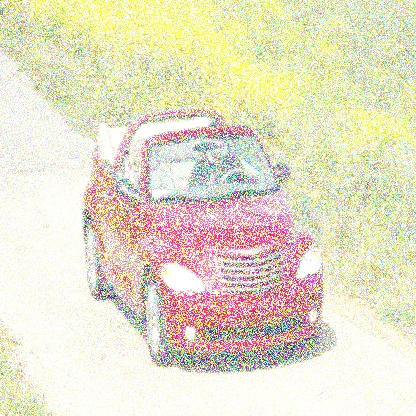Vehicle: (80, 107, 326, 368)
